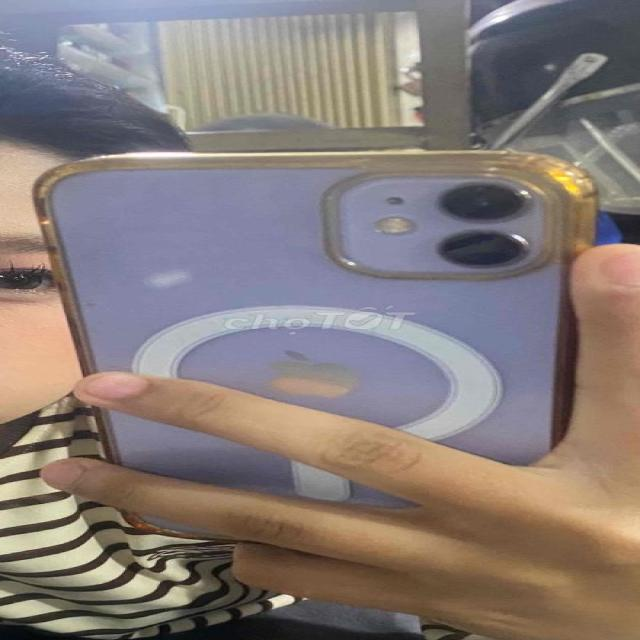gen_11: (41, 143, 608, 550)
